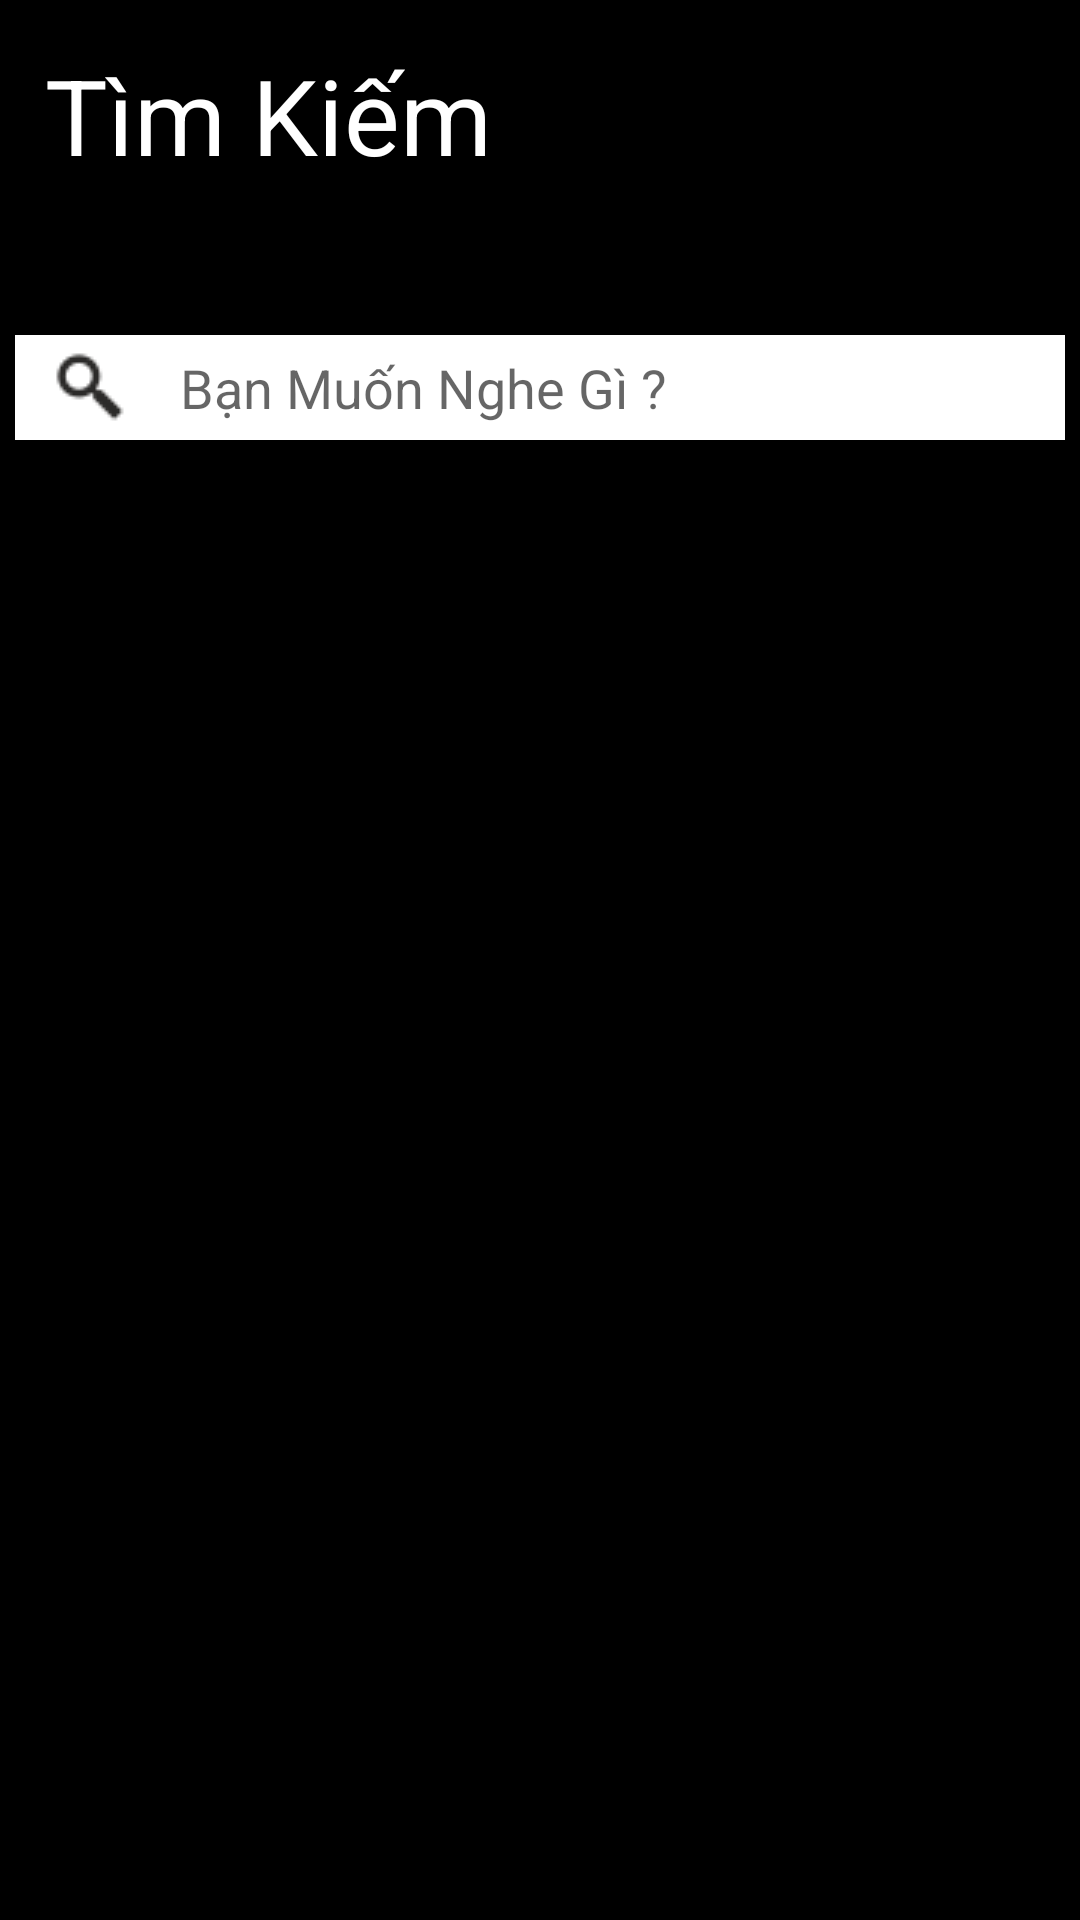

Screen size 1080 × 1920. Icon name, then its box in pixels as (x1, y1, x2, y2):
search: (56, 353, 123, 420)
